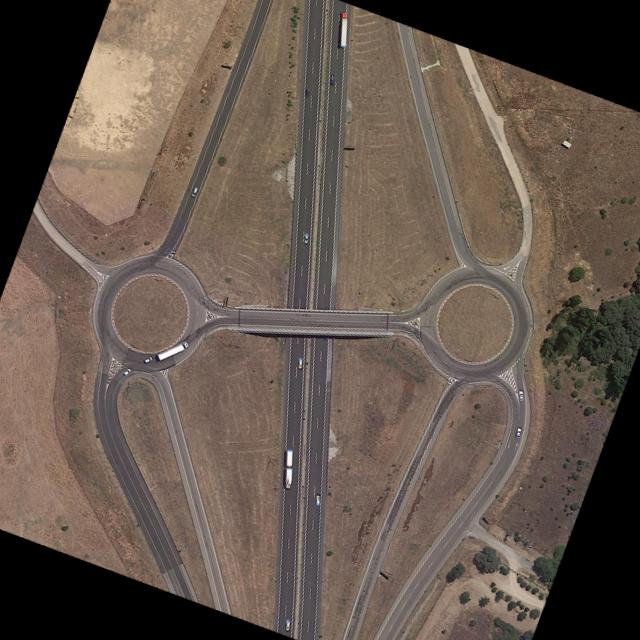large-vehicle: (154, 337, 188, 362), (284, 451, 291, 488), (340, 11, 346, 45)
small-vehicle: (122, 366, 131, 375), (142, 355, 152, 363), (283, 620, 290, 631), (514, 426, 521, 437), (190, 186, 197, 196), (297, 356, 302, 368), (303, 232, 308, 243), (315, 494, 320, 503), (329, 74, 334, 83), (305, 87, 309, 97), (518, 389, 522, 399)
